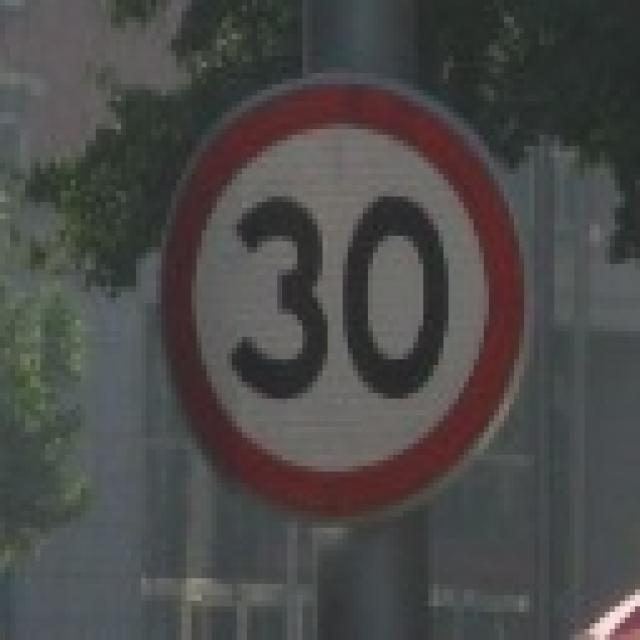Speed Limit -30-: (226, 194, 454, 407)
